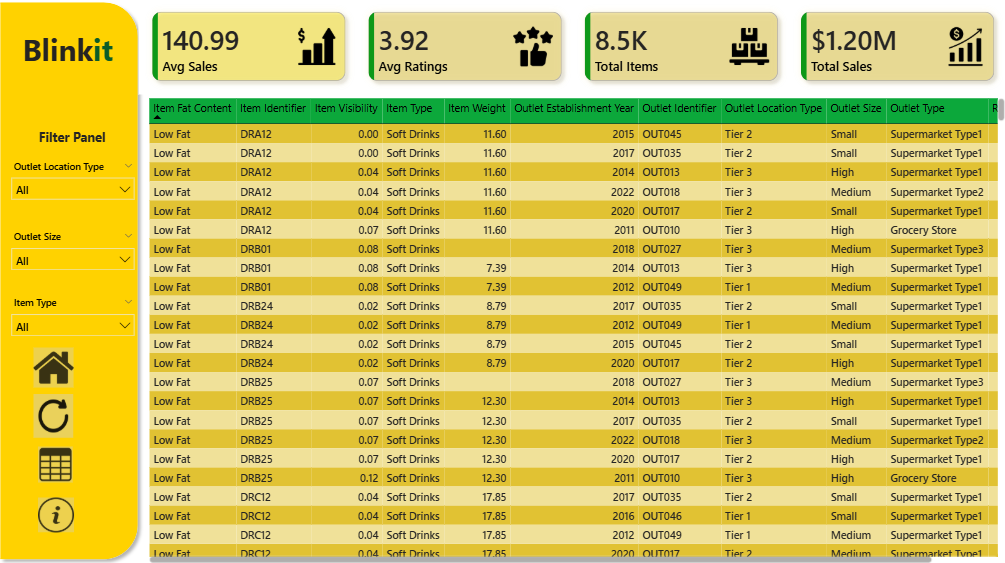

Layout of this report page (visuals, bound fields, positions):
{"tool":"powerbi","page":{"name":"Table","canvas":[1280,720],"ordinal":1},"visuals":[{"type":"shape","box":[0,0,191.1,718.9],"z":0},{"type":"textbox","box":[11.5,37.7,165.6,75.4],"z":1000},{"type":"slicer","title":" Outlet Size","fields":{"Values":["BlinkIT Grocery Data.Outlet Location Type"]},"box":[13,202.4,174.9,72.9],"z":2000},{"type":"slicer","title":" Outlet Size","fields":{"Values":["BlinkIT Grocery Data.Outlet Size"]},"box":[13,289.8,174.9,72.9],"z":3000},{"type":"slicer","title":" Outlet Size","fields":{"Values":["BlinkIT Grocery Data.Item Type"]},"box":[13,374,174.9,84.2],"z":4000},{"type":"textbox","box":[17.8,161.9,165.2,40.5],"z":5000},{"type":"actionButton","box":[50.4,443.7,50.4,50.4],"z":6000},{"type":"actionButton","box":[50.2,502,50.2,55.1],"z":7000},{"type":"actionButton","box":[56.7,568.3,43.7,45.3],"z":8000},{"type":"actionButton","box":[56.7,631.5,45.3,43.7],"z":9000},{"type":"cardVisual","fields":{"Data":["BlinkIT Grocery Data.Avg Sales","BlinkIT Grocery Data.Avg Ratings","BlinkIT Grocery Data.Total Items","BlinkIT Grocery Data.Total Sales"]},"box":[183,3.2,1094.6,121.4],"z":9001},{"type":"tableEx","fields":{"Values":["BlinkIT Grocery Data.Item Fat Content","BlinkIT Grocery Data.Item Identifier","BlinkIT Grocery Data.Item Visibility","BlinkIT Grocery Data.Item Type","BlinkIT Grocery Data.Item Weight","BlinkIT Grocery Data.Outlet Establishment Year","BlinkIT Grocery Data.Outlet Identifier","BlinkIT Grocery Data.Outlet Location Type","BlinkIT Grocery Data.Outlet Size","BlinkIT Grocery Data.Outlet Type","BlinkIT Grocery Data.Rating","BlinkIT Grocery Data.Sales"]},"box":[191,124,1087,595],"z":9002}]}

Visuals, with their boxes in screenshot pixels (x1, y1, x2, y2), scaled from the page's 1280x720 canvas onto the 1005x563 screenshot:
shape: pyautogui.locateOnScreen(0, 0, 150, 562)
textbox: pyautogui.locateOnScreen(9, 29, 139, 88)
" Outlet Size" slicer: pyautogui.locateOnScreen(10, 158, 148, 215)
" Outlet Size" slicer: pyautogui.locateOnScreen(10, 227, 148, 284)
" Outlet Size" slicer: pyautogui.locateOnScreen(10, 292, 148, 358)
textbox: pyautogui.locateOnScreen(14, 127, 144, 158)
actionButton: pyautogui.locateOnScreen(40, 347, 79, 386)
actionButton: pyautogui.locateOnScreen(39, 393, 79, 436)
actionButton: pyautogui.locateOnScreen(45, 444, 79, 480)
actionButton: pyautogui.locateOnScreen(45, 494, 80, 528)
cardVisual - BlinkIT Grocery Data.Avg Sales x BlinkIT Grocery Data.Avg Ratings: pyautogui.locateOnScreen(144, 3, 1003, 97)
tableEx - BlinkIT Grocery Data.Item Fat Content x BlinkIT Grocery Data.Item Identifier: pyautogui.locateOnScreen(150, 97, 1003, 562)
